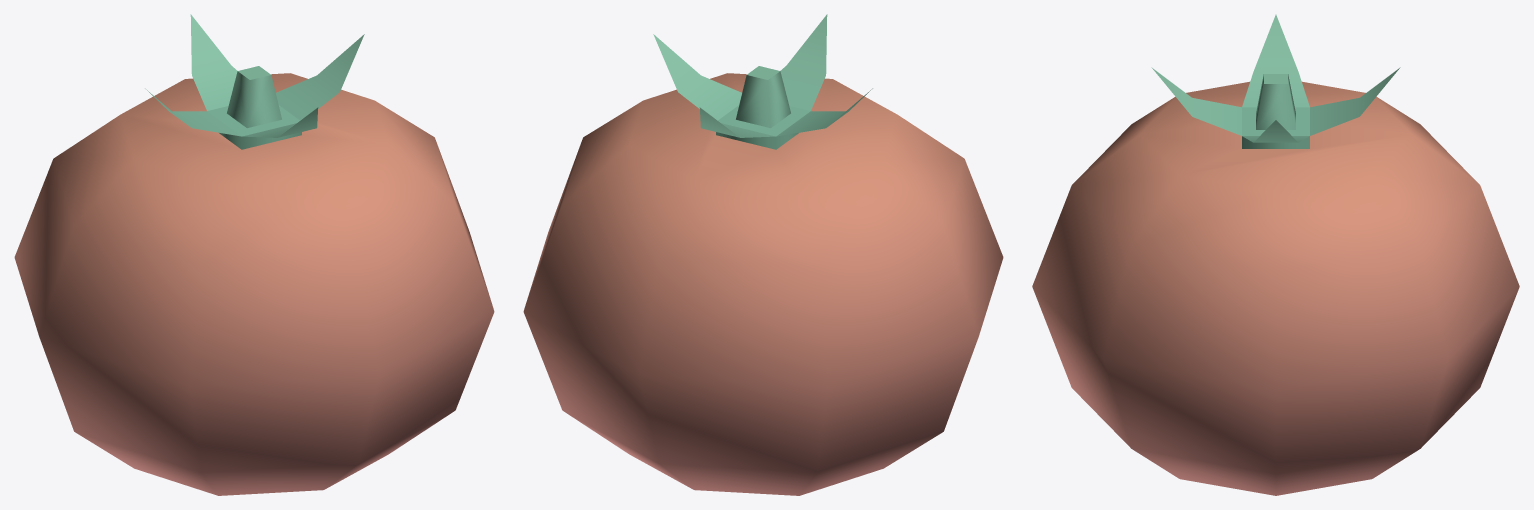
File: tomato.glb
The picture shows the model from 3 angles, left to right: view 1: azimuth 30°, elevation 25°; view 2: azimuth 150°, elevation 25°; view 3: azimuth 270°, elevation 25°; orthographic projection.
Visible parts, largest first — view 1: tomato; view 2: tomato; view 3: tomato.
Part boxes in pixels (x1,y1,x2,y2): tomato: (14, 14, 494, 495); tomato: (523, 14, 1003, 495); tomato: (1032, 14, 1519, 495).
Bounding box in the file's own units: 0.1697 × 0.1427 × 0.1697.
